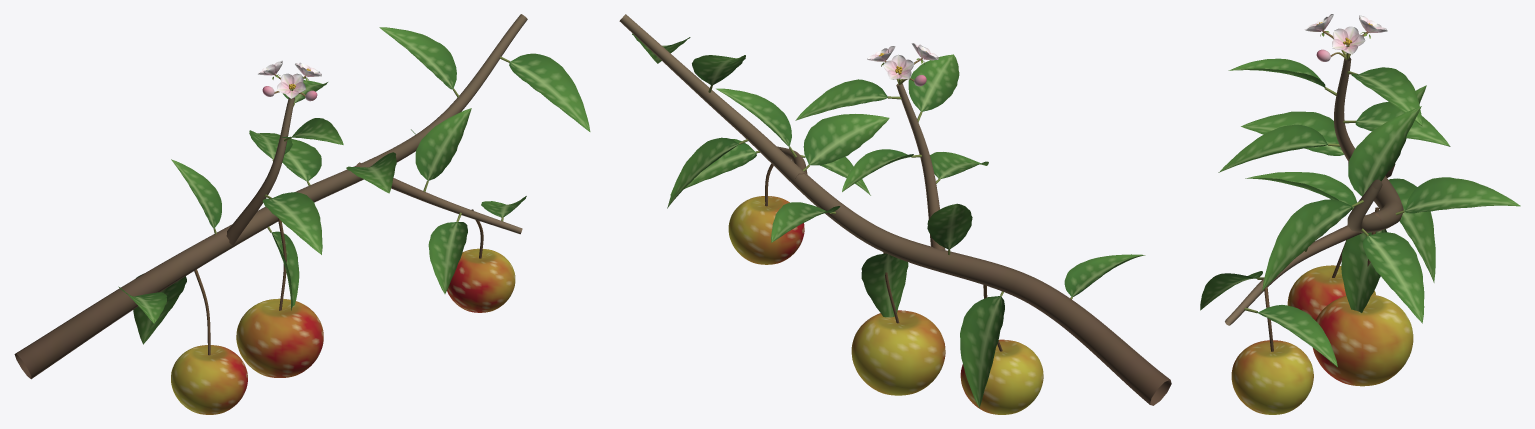
File: 47_Ranodoshlar.glb
3 renders of one model, left to right at view 1: azimuth 30°, elevation 25°; view 2: azimuth 150°, elevation 25°; view 3: azimuth 270°, elevation 25°, orthographic. The views are drawn at different scales.
Parts seen in each view (by area): view 1: leaf, bark, fruit, petal; view 2: leaf, bark, fruit, petal; view 3: leaf, fruit, bark, petal, stem.
Part boxes in pixels (x1,y1,x2,y2): leaf: (118, 27, 590, 344); bark: (14, 14, 527, 379); fruit: (171, 248, 515, 414); petal: (258, 60, 321, 101); leaf: (632, 33, 1145, 407); bark: (619, 14, 1171, 405); fruit: (728, 196, 1043, 414); petal: (867, 43, 938, 86); leaf: (1200, 58, 1520, 367); fruit: (1231, 265, 1413, 414); bark: (1225, 57, 1403, 351); petal: (1304, 14, 1387, 61); stem: (1244, 30, 1404, 313).
Size of the model in its own units: 0.9444 by 0.5415 by 0.4284.
